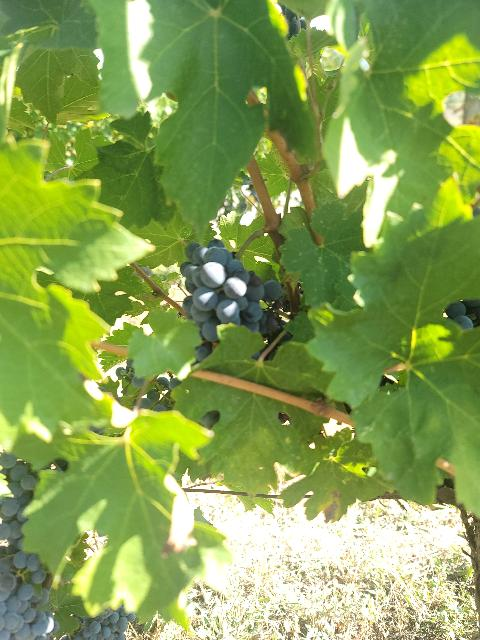grapes: (180, 239, 284, 362)
